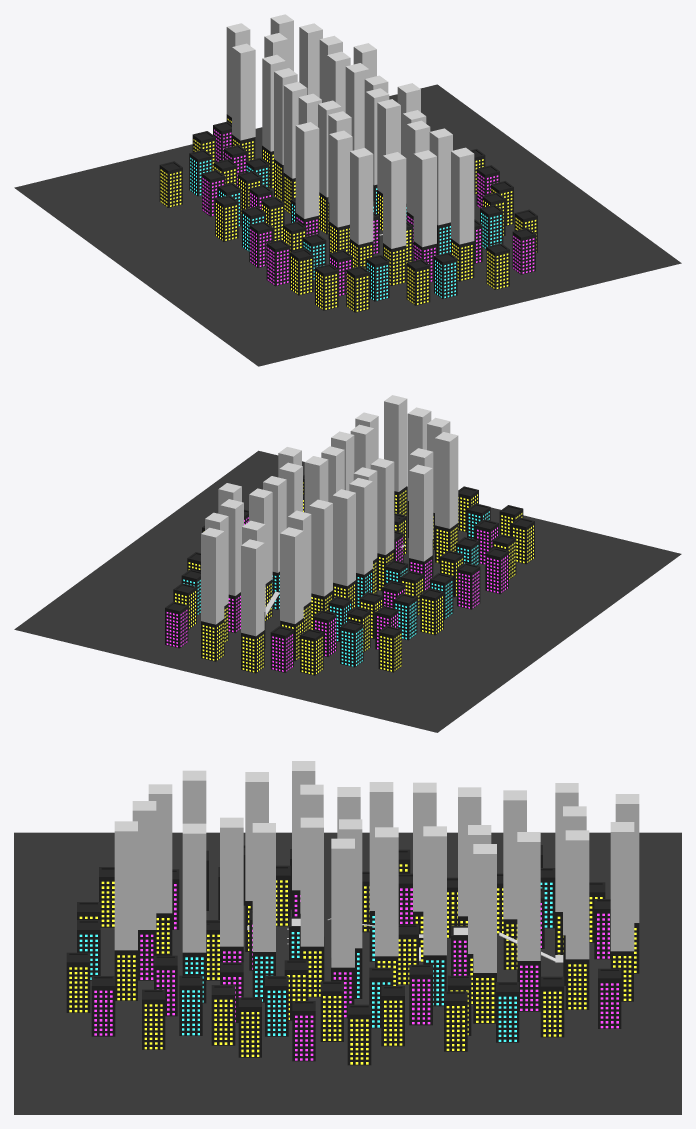
Rendered from level 2.fbx.
3 renders of one model, top to bottom at view 1: azimuth 30°, elevation 25°; view 2: azimuth 150°, elevation 25°; view 3: azimuth 270°, elevation 25°, orthographic. The views are drawn at different scales.
Parts seen in each view (by area): view 1: Plane, Cube.120, Cube.119, Cube.114, Cube.113, Cube.110, Cube.112, Cube.111, Cube.109, Cube.099, Cube.098, Cube.100 (+42 smaller); view 2: Plane, Cube.116, Cube.120, Cube.114, Cube.110, Cube.118, Cube.100, Cube.102, Cube.119, Cube.101, Cube.094, Cube.105 (+42 smaller); view 3: Plane, Cube.116, Cube.115, Cube.109, Cube.108, Cube.099, Cube.097, Cube.096, Cube.119, Cube.098, Cube.117, Cube.107 (+62 smaller).
Part boxes in pixels (box(x1,y1,x2,y2)): Plane: box(14, 84, 681, 366); Cube.120: box(295, 122, 319, 218); Cube.119: box(451, 147, 474, 244); Cube.114: box(232, 43, 255, 140); Cube.113: box(413, 150, 436, 247); Cube.110: box(350, 148, 373, 244); Cube.112: box(383, 152, 406, 248); Cube.111: box(329, 130, 352, 227); Cube.109: box(429, 128, 452, 225); Cube.099: box(345, 63, 368, 150); Cube.098: box(377, 99, 400, 193); Cube.100: box(283, 81, 307, 178); Plane: box(14, 450, 681, 732); Cube.116: box(201, 527, 224, 624); Cube.120: box(409, 464, 432, 561); Cube.114: box(280, 527, 303, 623); Cube.110: box(435, 432, 458, 528); Cube.118: box(241, 539, 264, 636); Cube.100: box(332, 489, 355, 585); Cube.102: box(309, 499, 332, 596); Cube.119: box(384, 395, 407, 491); Cube.101: box(370, 458, 394, 554); Cube.094: box(349, 478, 372, 574); Cube.105: box(220, 499, 243, 595); Plane: box(14, 832, 681, 1114); Cube.116: box(610, 822, 634, 951); Cube.115: box(565, 830, 589, 959); Cube.109: box(182, 823, 206, 952); Cube.108: box(220, 817, 243, 946); Cube.099: box(423, 826, 446, 955); Cube.097: box(331, 838, 354, 967); Cube.096: box(375, 827, 398, 956); Cube.119: box(114, 821, 137, 950); Cube.098: box(300, 817, 323, 946); Cube.117: box(473, 844, 496, 972); Cube.107: box(252, 823, 275, 951).
Bounding box in the file's own units: 5687 × 1610 × 5687.
